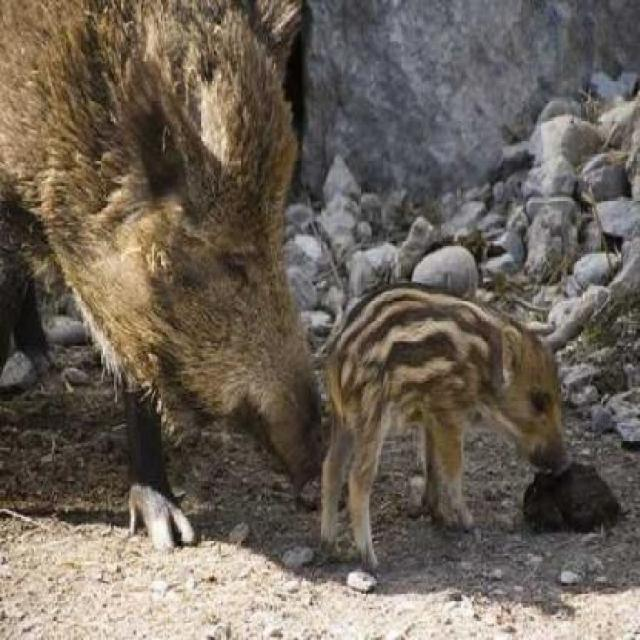Boar: (34, 0, 337, 434), (320, 232, 560, 576)
